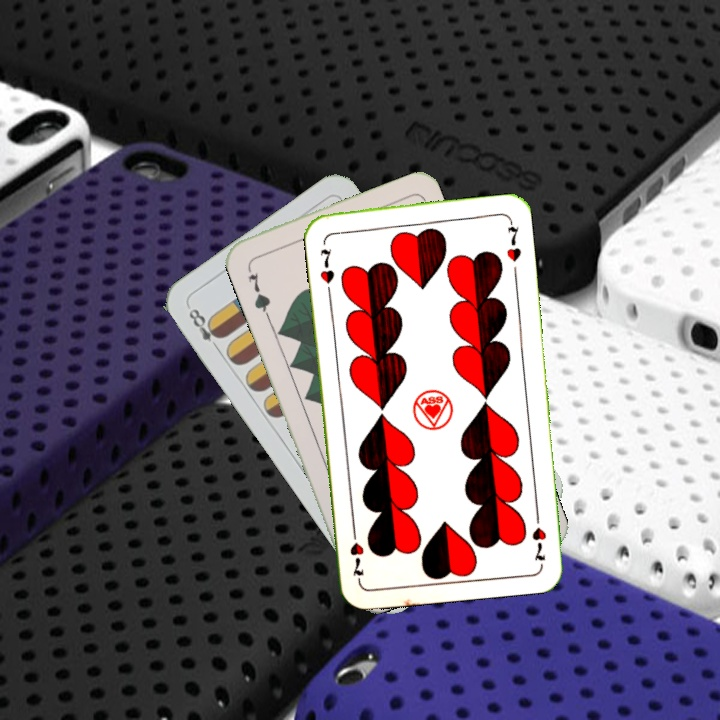E8: (184, 304, 226, 354)
G7: (244, 268, 273, 318)
H7: (528, 507, 549, 566), (316, 244, 337, 296)
